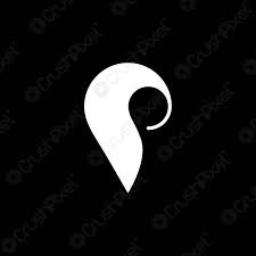e: (76, 58, 180, 206)
